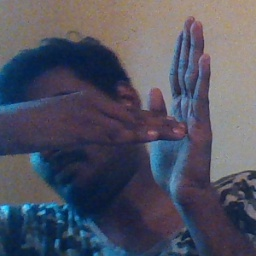Z: (100, 16, 222, 195)
